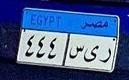4: (24, 34, 35, 59), (36, 34, 46, 60), (48, 36, 58, 61)
raa: (99, 44, 112, 66)
seen: (69, 44, 84, 59)
yaa: (83, 45, 99, 64)
